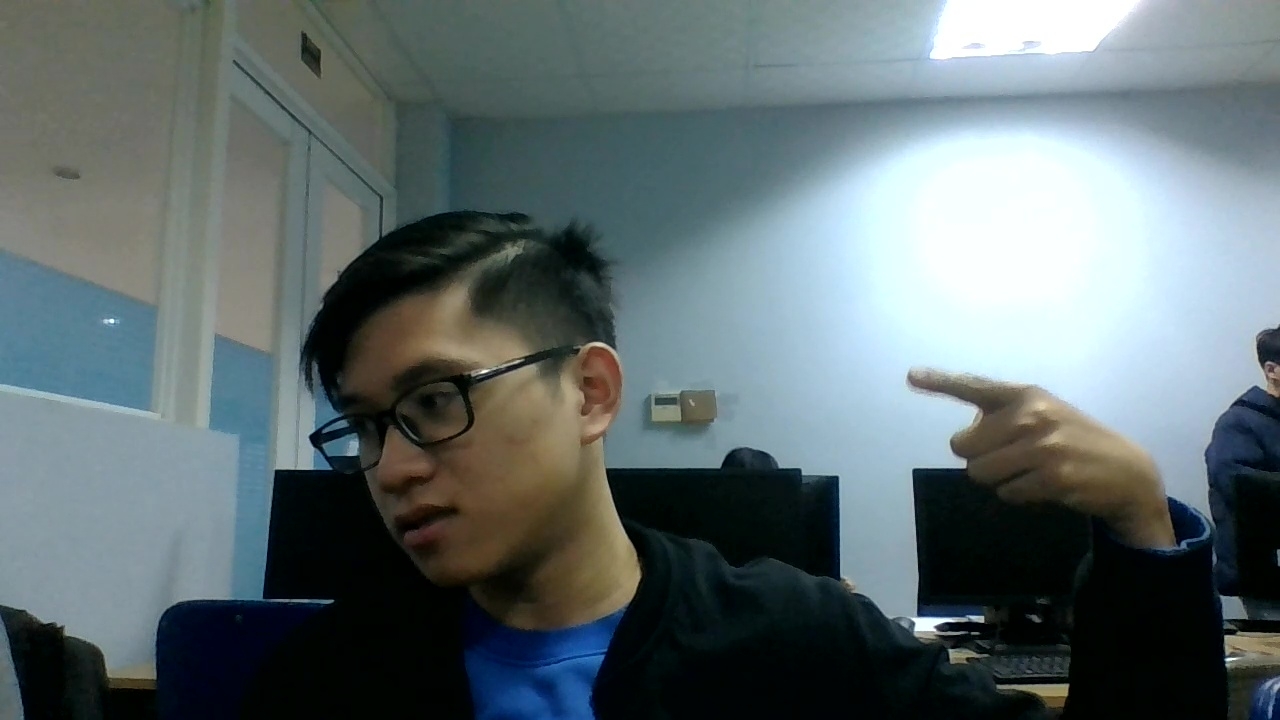right: (901, 355, 1178, 528)
